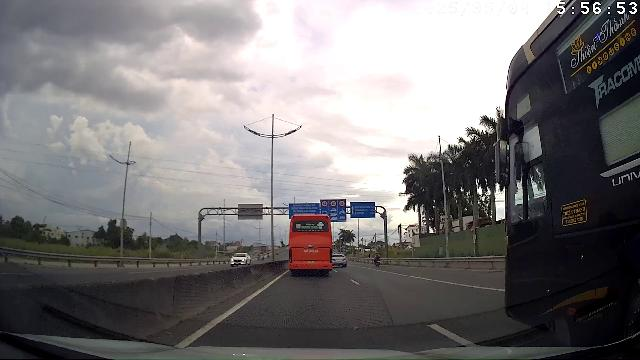127-toc-do-toi-da-60: (338, 200, 346, 207), (322, 200, 328, 207), (329, 201, 336, 207)
